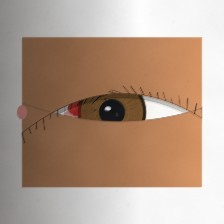hemorrhage_spot: (59, 82, 124, 134)
